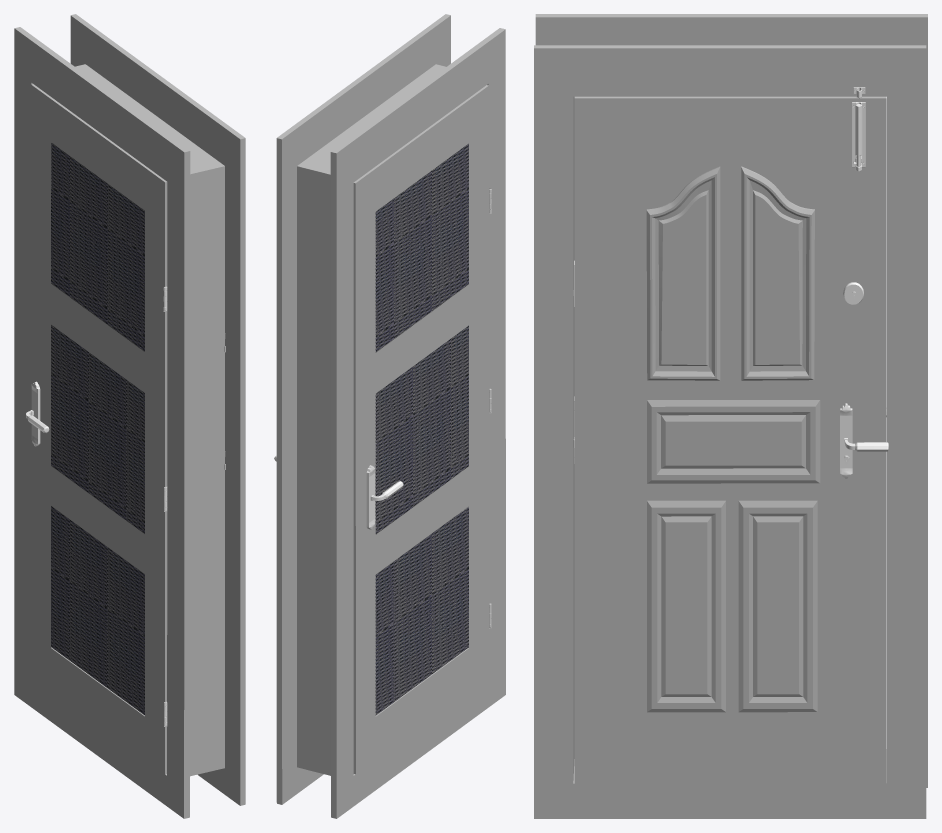
The model's file is PRIMO_CASA_GRANDE.fbx.
The picture shows the model from 3 angles, left to right: view 1: azimuth 30°, elevation 25°; view 2: azimuth 150°, elevation 25°; view 3: azimuth 270°, elevation 25°; orthographic projection. The views are drawn at different scales.
Visible parts, largest first — view 1: outer_frame.001, DOOR_GRILL, GLASS, pCylinder16 (1); view 2: outer_frame.001, DOOR_GRILL, GLASS, pCylinder16 (1); view 3: door_FIRST1, outer_frame.001, polySurface11.001, pCube11.002.
Part boxes in pixels (x1,y1,x2,y2): outer_frame.001: (14, 14, 245, 818); DOOR_GRILL: (31, 84, 167, 774); GLASS: (51, 143, 144, 715); pCylinder16 (1): (26, 381, 49, 446); outer_frame.001: (276, 14, 505, 818); DOOR_GRILL: (353, 85, 489, 774); GLASS: (375, 143, 468, 715); pCylinder16 (1): (366, 465, 403, 530); door_FIRST1: (574, 96, 886, 785); outer_frame.001: (534, 14, 927, 818); polySurface11.001: (852, 102, 865, 171); pCube11.002: (840, 403, 852, 478).
Bounding box in the file's own units: 38.22 × 245 × 113.
